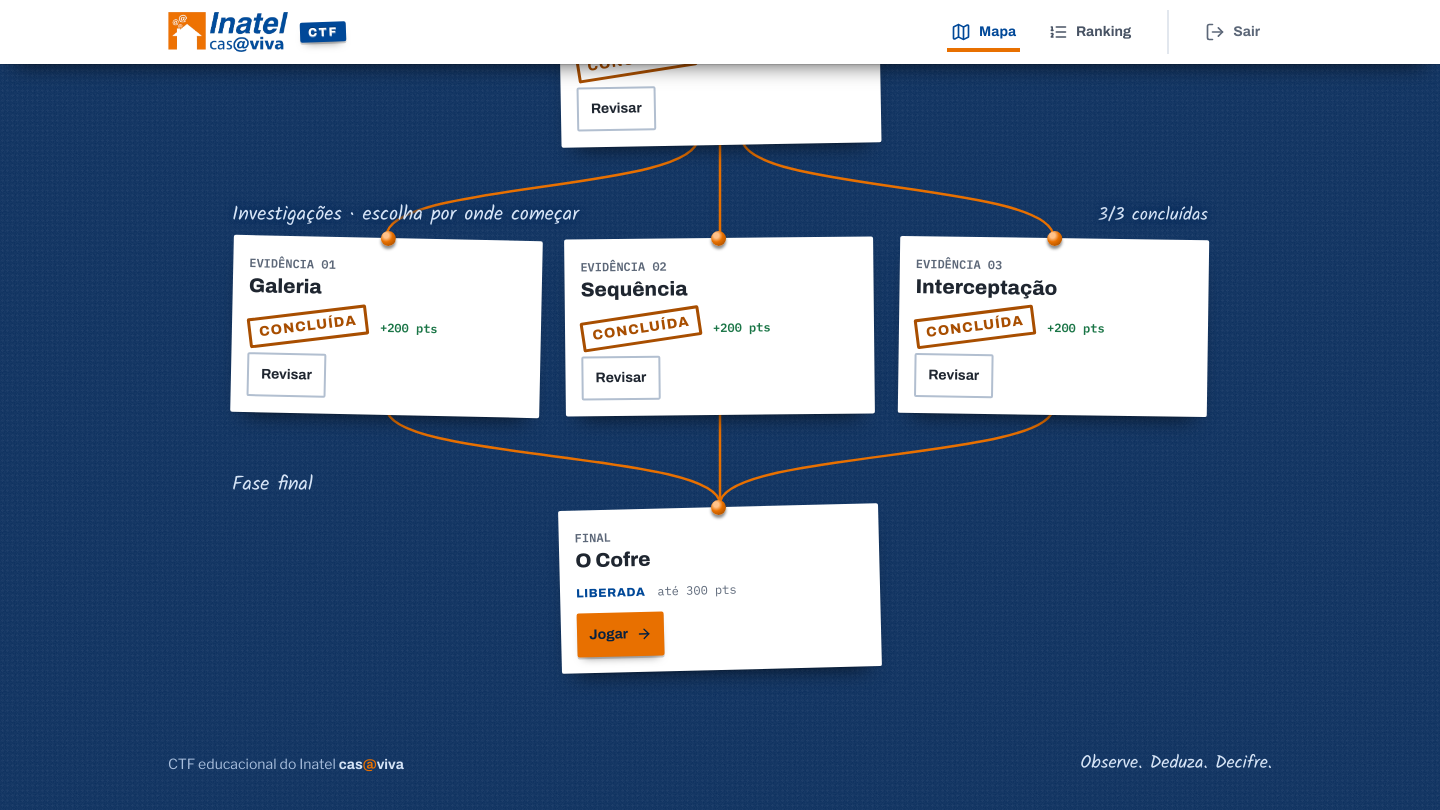
it: one official attempt per player › locks the vault after a wrong combination and refuses answers meanwhile
(page scrolled)
Click the link "Jogar O Cofre". click: (621, 634)
box: [577,611,665,658]
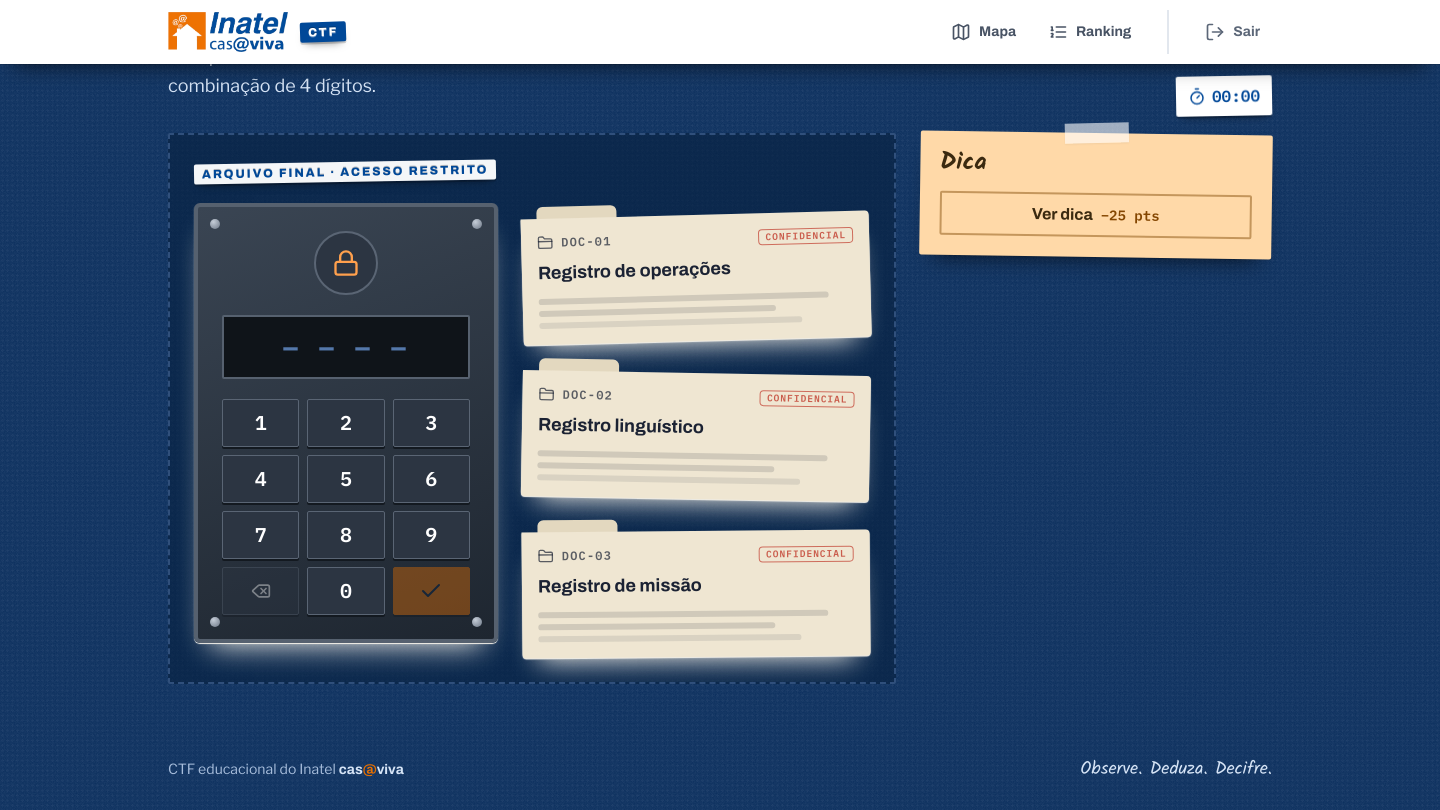
Click the button "1". click: (261, 422)
box: [222,398,299,446]
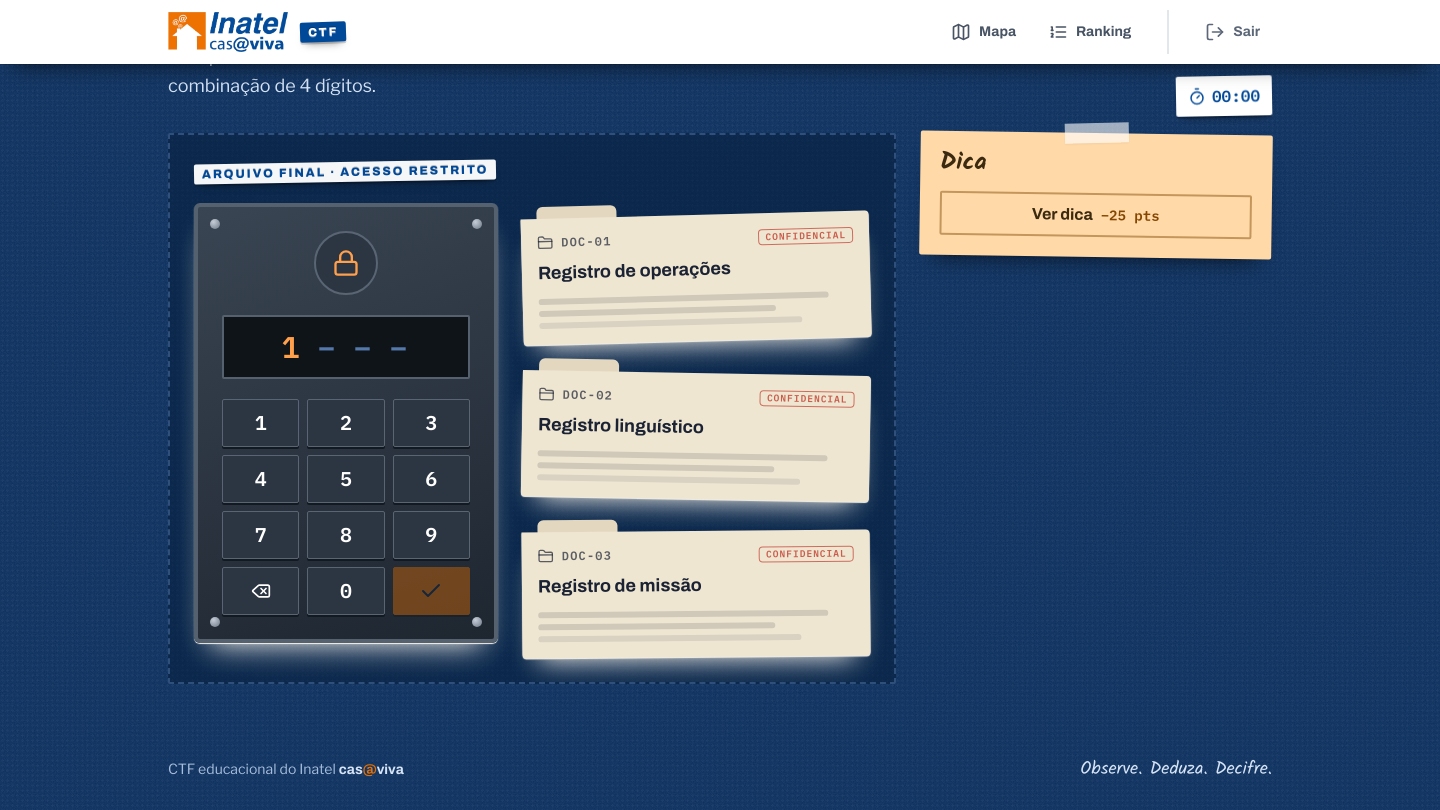
Click the button "9". click: (431, 534)
box: [393,510,470,558]
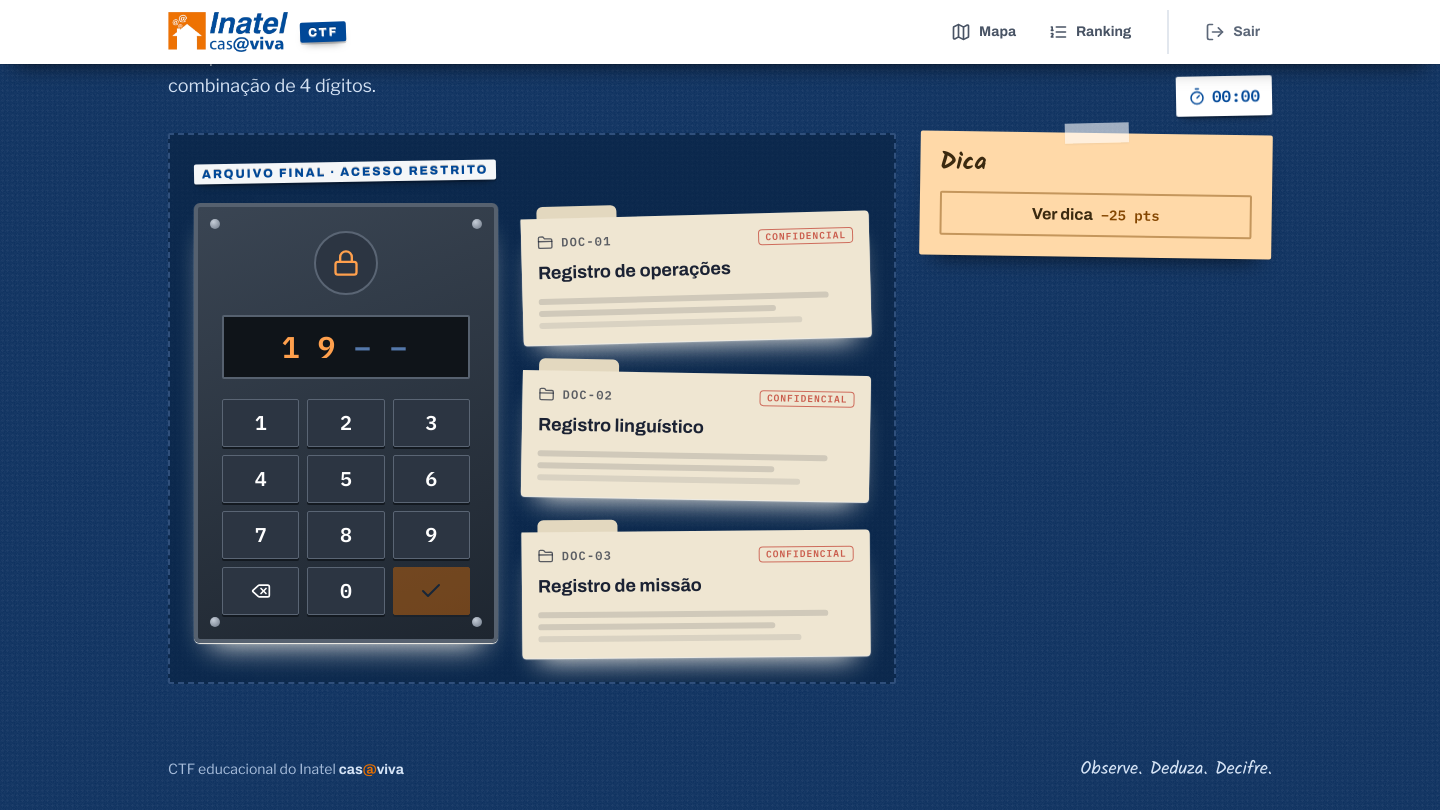
Click the button "6". click: (431, 478)
box: [393,454,470,502]
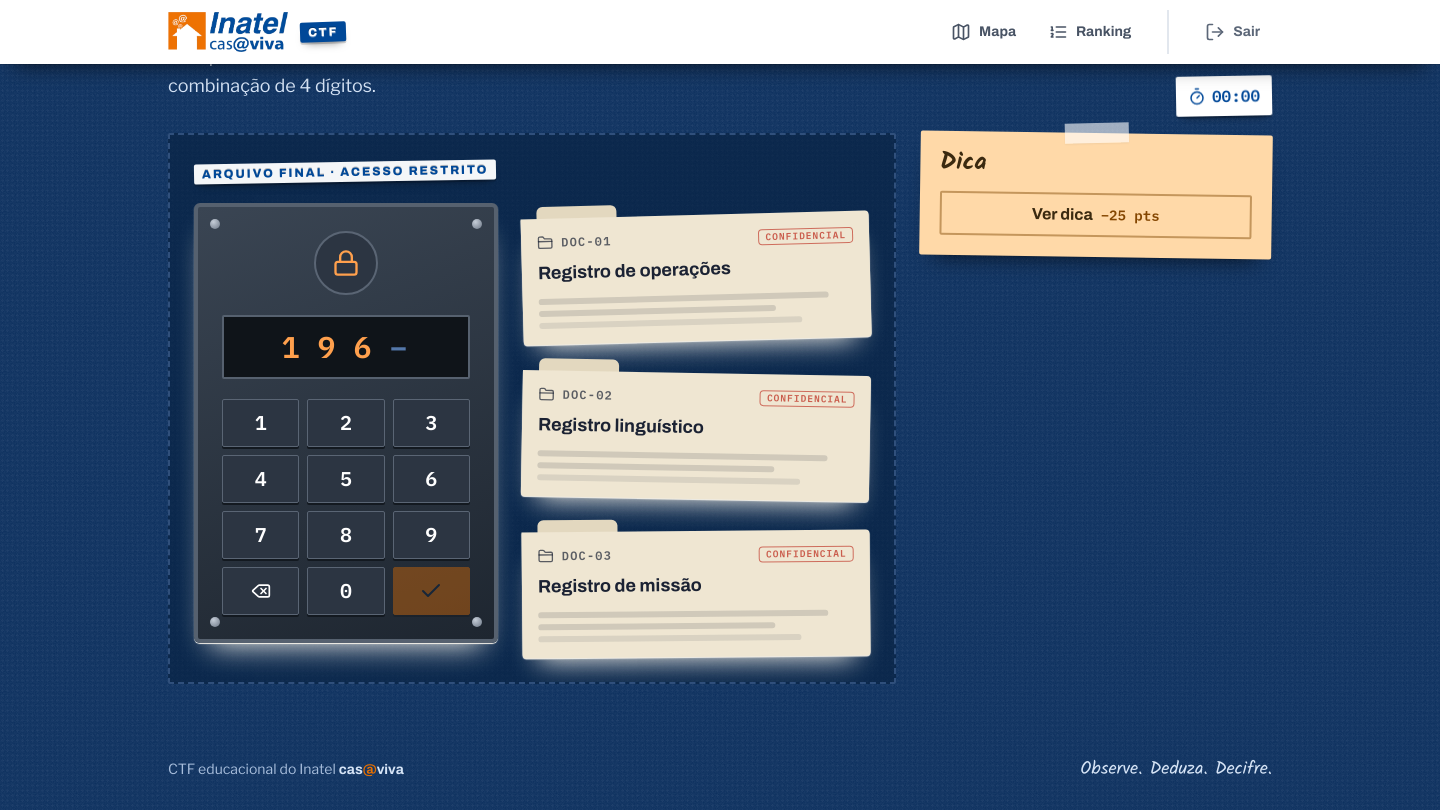
Click the button "9". click: (431, 534)
box: [393,510,470,558]
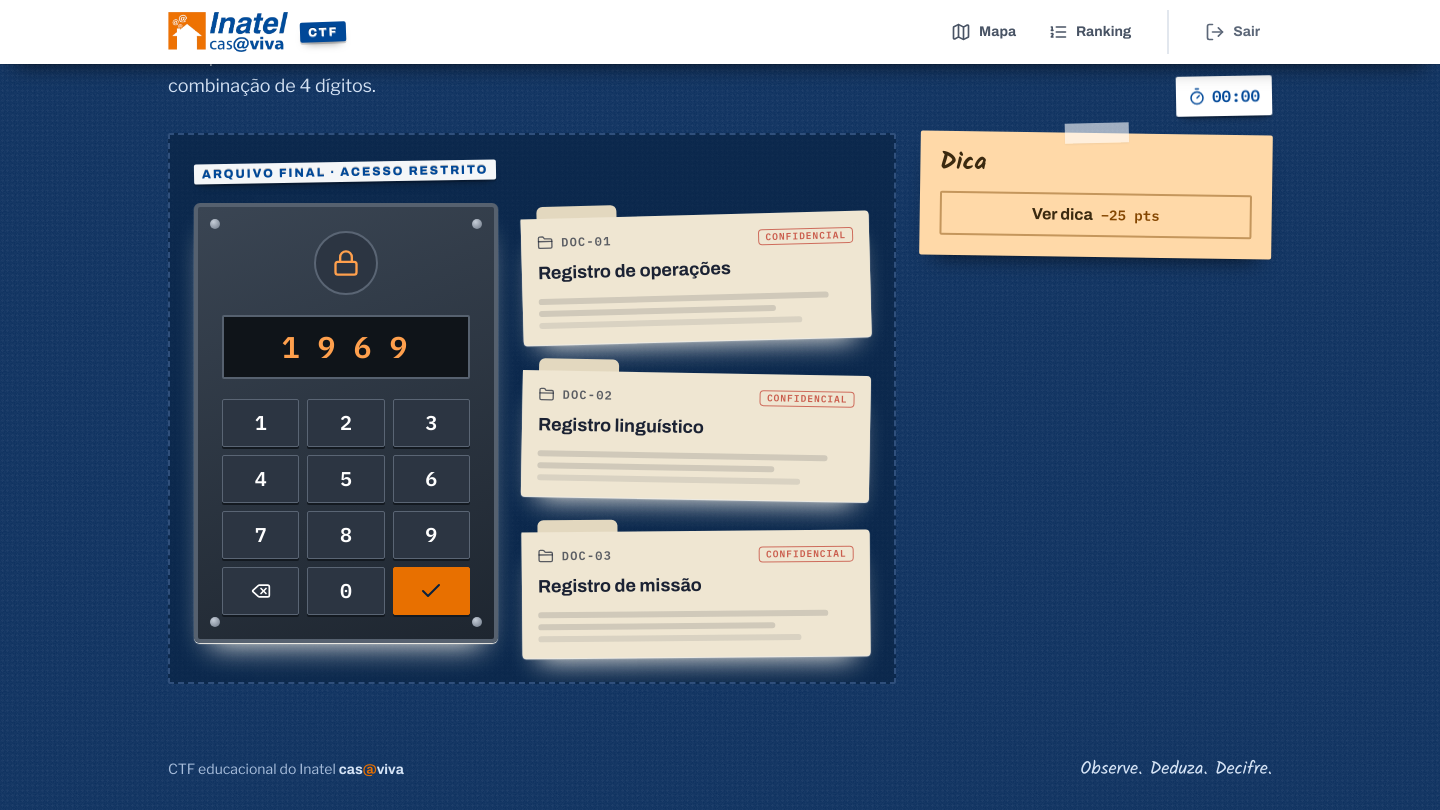
Click the button named "Confirmar combinação". click: (431, 590)
box: [393,566,470,614]
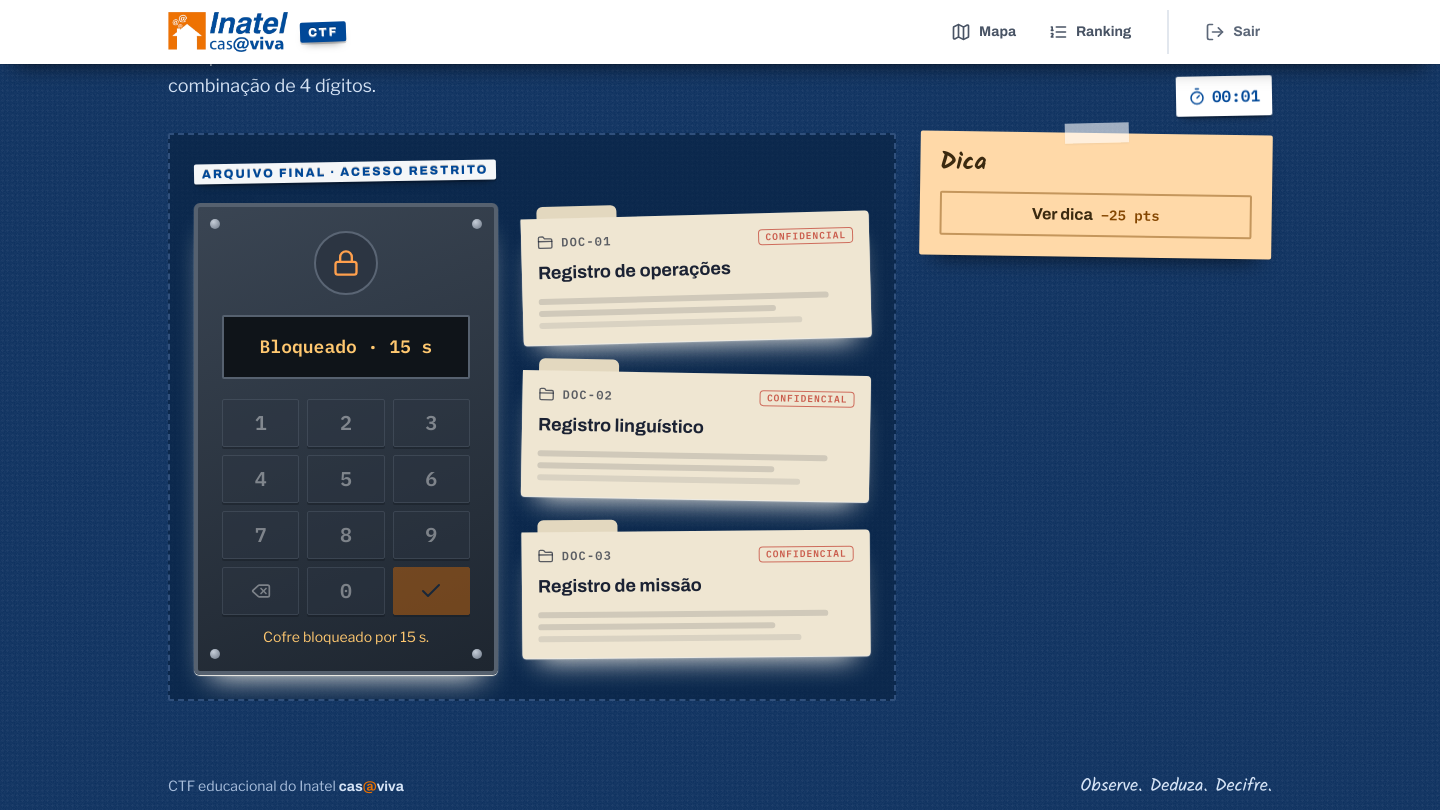
expect the text "Cofre bloqueado por 15 s." is shown: met, box [263,628,429,644]
expect the button "2" is disabled: met, box [307,398,385,446]
